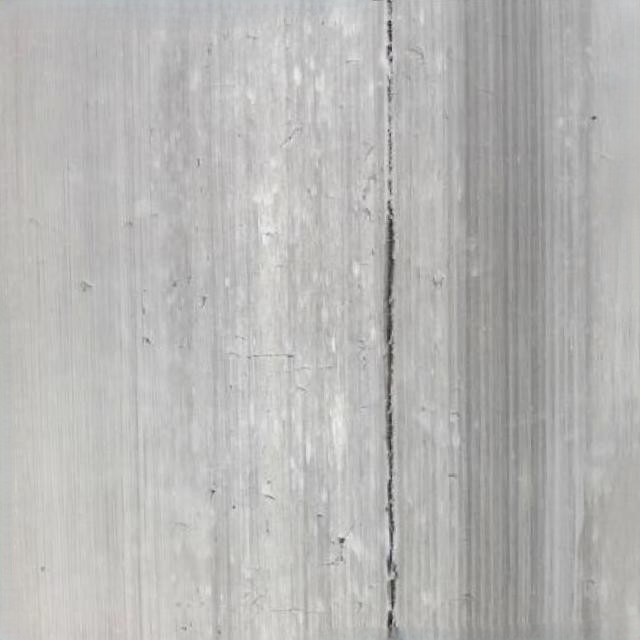Tear: (376, 0, 411, 640)
